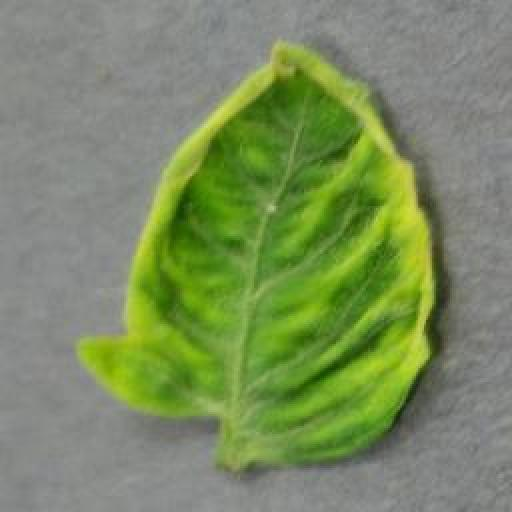Yellow Leaf Curl Virus: (74, 36, 437, 472)
